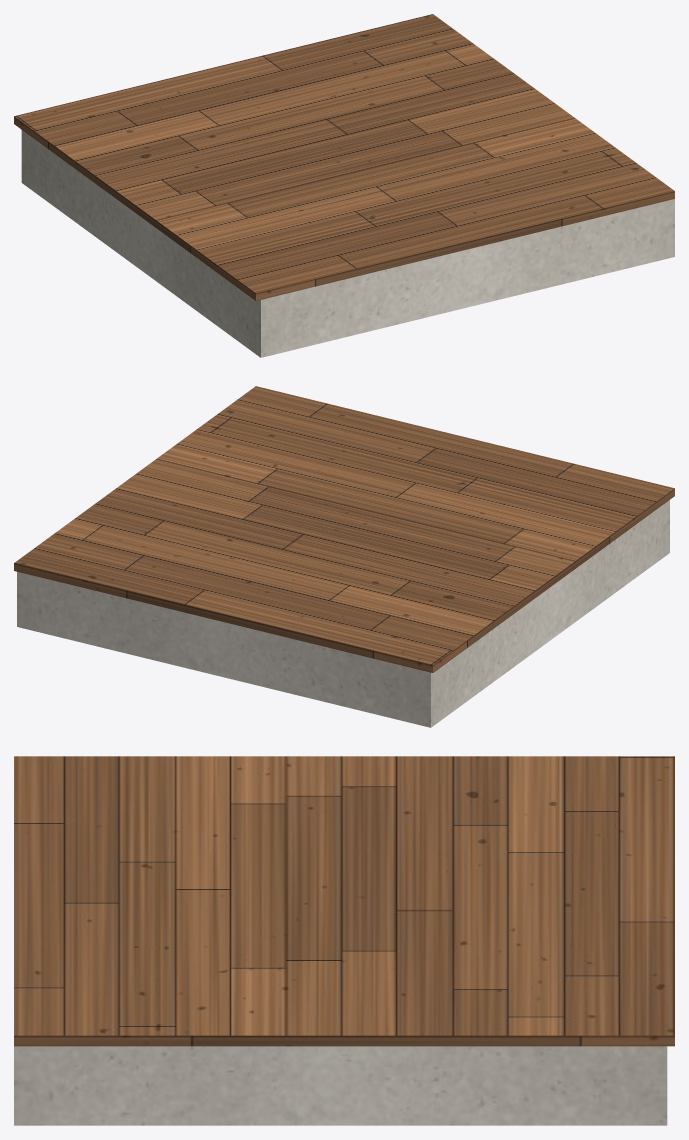
Rendered from floor_floor_u_e0101.glb.
The picture shows the model from 3 angles, top to bottom: view 1: azimuth 30°, elevation 25°; view 2: azimuth 150°, elevation 25°; view 3: azimuth 270°, elevation 25°; orthographic projection. The views are drawn at different scales.
Visible parts, largest first — view 1: floor_floor_u_e0101_floor, floor_floor_u_e0101_plaster; view 2: floor_floor_u_e0101_floor, floor_floor_u_e0101_plaster; view 3: floor_floor_u_e0101_floor, floor_floor_u_e0101_plaster.
Part boxes in pixels (x1,y1,x2,y2): floor_floor_u_e0101_floor: [14, 14, 674, 300]; floor_floor_u_e0101_plaster: [21, 130, 674, 357]; floor_floor_u_e0101_floor: [14, 386, 674, 672]; floor_floor_u_e0101_plaster: [17, 500, 669, 727]; floor_floor_u_e0101_floor: [14, 756, 674, 1046]; floor_floor_u_e0101_plaster: [14, 1046, 667, 1125].
Size of the model in its own units: 1.7 by 0.255 by 1.7.
2 materials, 2 textured.
